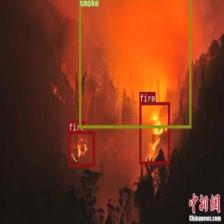fire: (139, 102, 169, 164), (68, 131, 94, 166)
smoke: (79, 0, 191, 128)
